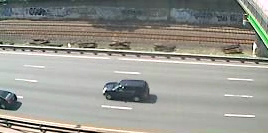car: (101, 77, 155, 104)
